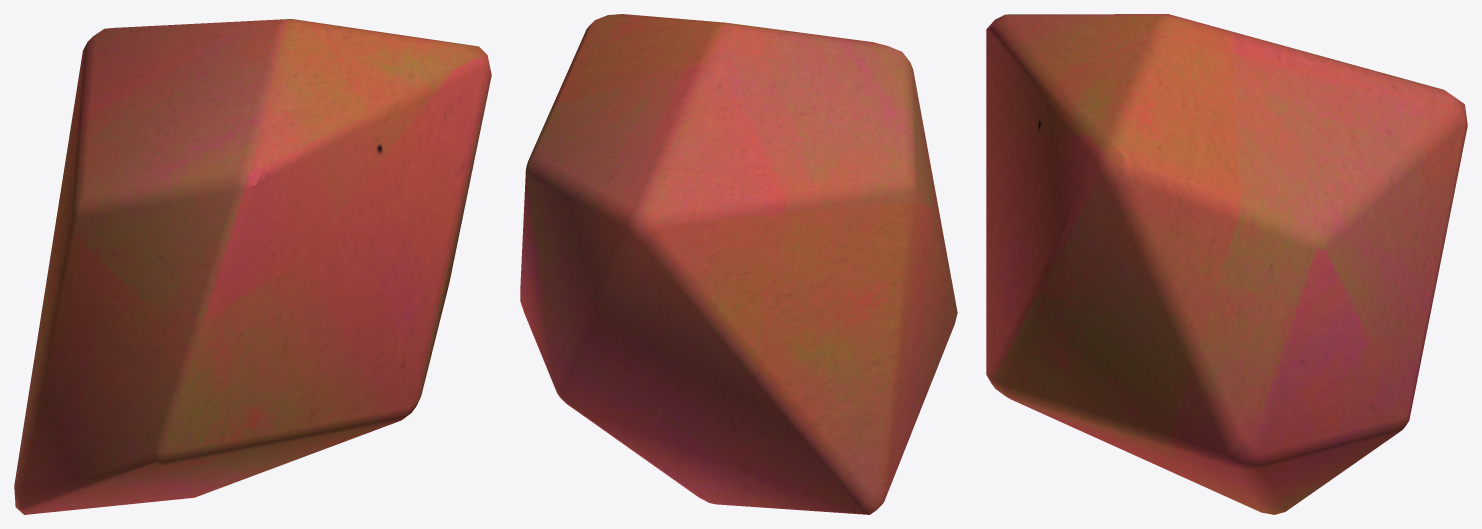
File: TEMPLE_DECOR_ROCKS.obj
The picture shows the model from 3 angles, left to right: view 1: azimuth 30°, elevation 25°; view 2: azimuth 150°, elevation 25°; view 3: azimuth 270°, elevation 25°; orthographic projection. The views are drawn at different scales.
Parts seen in each view (by area): view 1: TEMPLE_DECOR_ROCKS.006; view 2: TEMPLE_DECOR_ROCKS.006; view 3: TEMPLE_DECOR_ROCKS.006.
Part boxes in pixels (x1,y1,x2,y2): TEMPLE_DECOR_ROCKS.006: [14, 19, 491, 514]; TEMPLE_DECOR_ROCKS.006: [520, 14, 957, 514]; TEMPLE_DECOR_ROCKS.006: [986, 14, 1467, 514].
Size of the model in its own units: 0.5575 by 0.6336 by 0.534.
